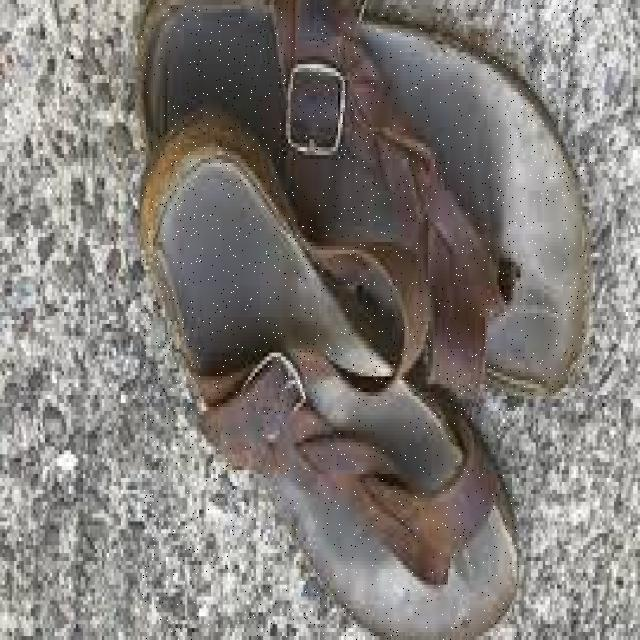other: (142, 109, 519, 640), (142, 1, 592, 395)
